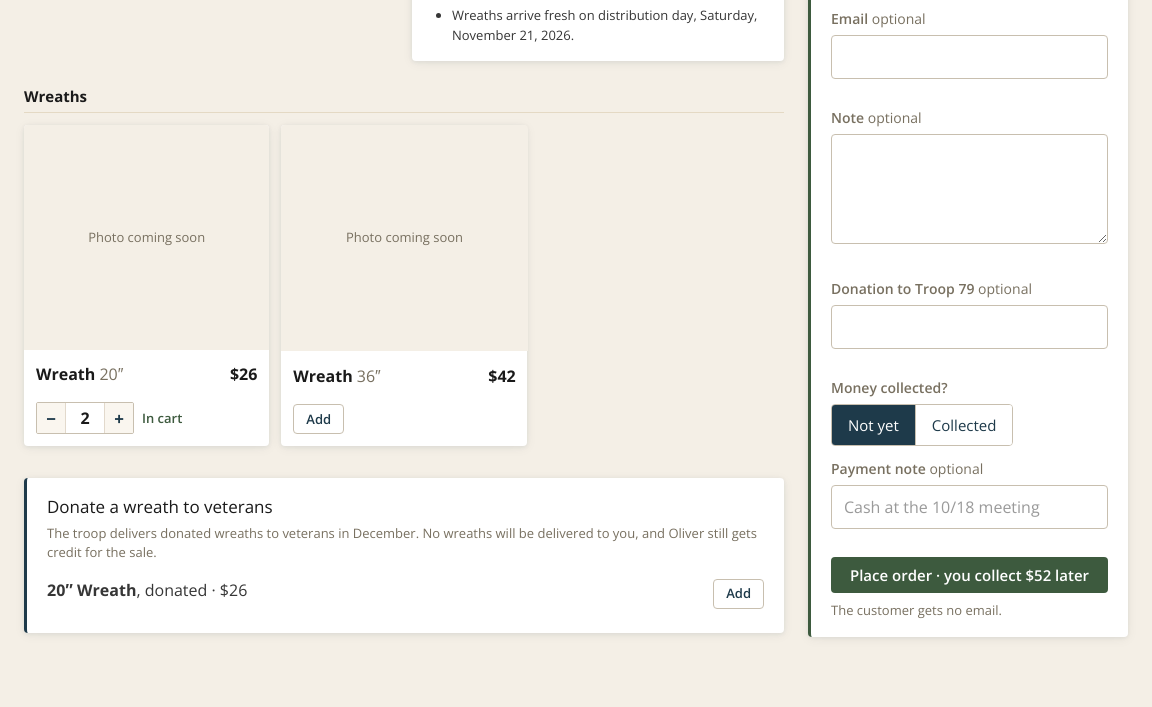
Test: the scout’s public page › the entry form › EntryForm_MarksAMissingNameInPlace_WithTheReason
(page scrolled)
Click the button "Place order · you collect $52 later".
click(970, 575)  # box [831,557,1108,593]
(page scrolled)
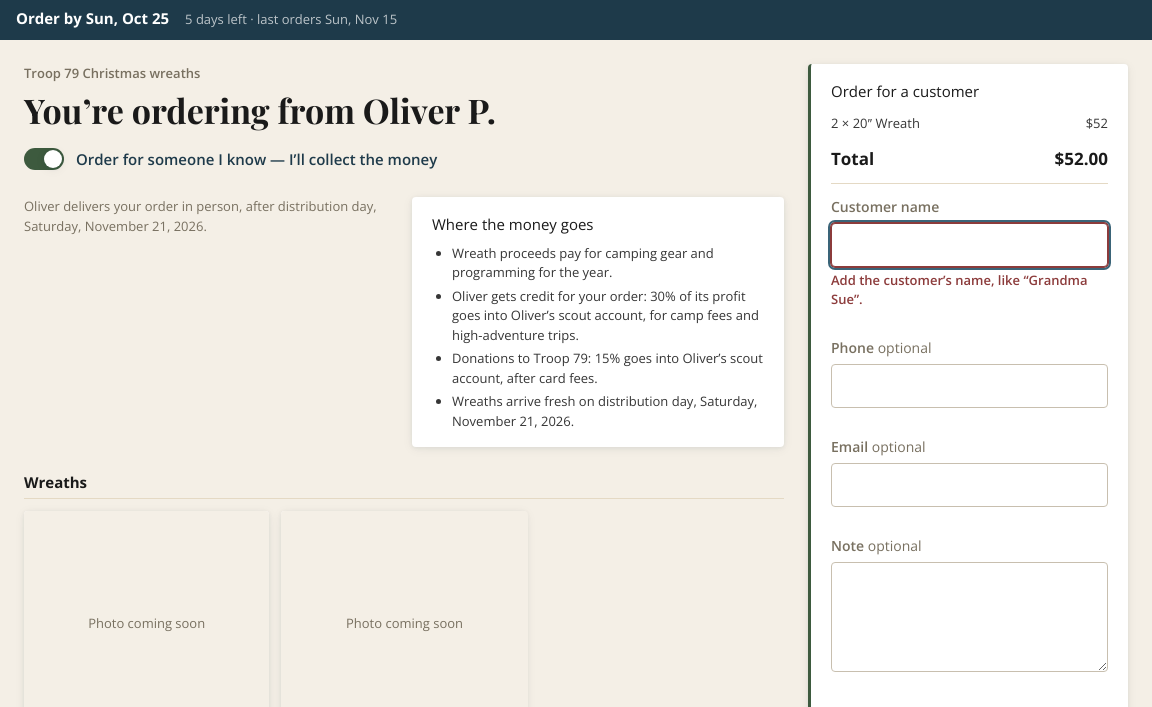
Now the text "Add the customer’s name, like “Grandma Sue”." is shown, box [831,271,1108,309]
